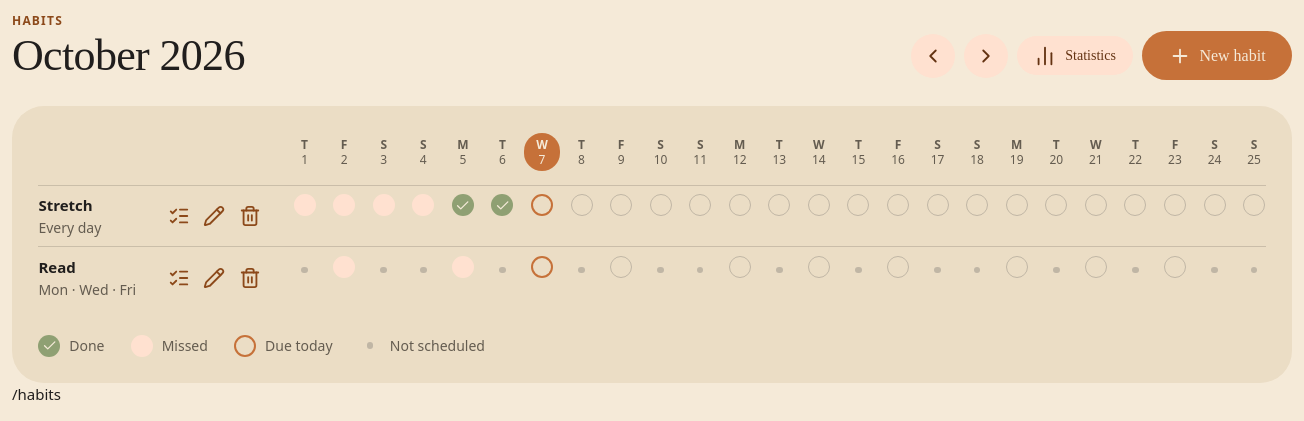
Test: the month › moves between months and keeps the month in the address
Check: the table is shown, box [38,133,1266,308]
Check: the button "This month" is not shown
Step 1. Click the button named "Next month" → click(986, 56), box [964,34,1008,78]
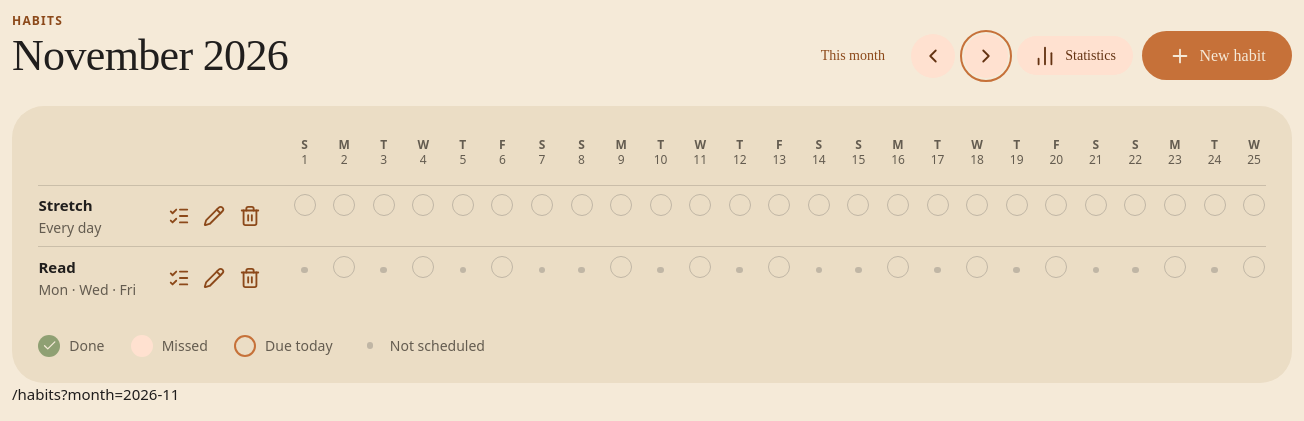
Check: the heading "November 2026" is shown, box [12,31,288,80]
Check: the text with test id "location" reads "/habits?month=2026-11", box [12,384,179,404]
Step 2. Click the button "This month" → click(853, 56), box [803,36,902,76]
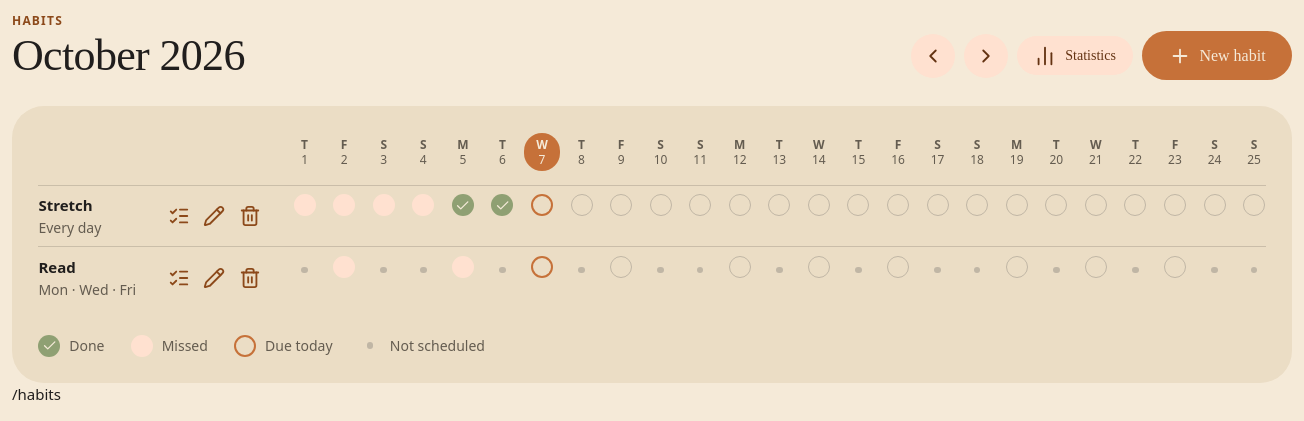
Check: the text with test id "location" reads "/habits", box [12,384,61,404]
Check: the heading "October 2026" is shown, box [12,31,245,80]
Step 3. Click the button named "Previous month" → click(933, 56), box [911,34,955,78]
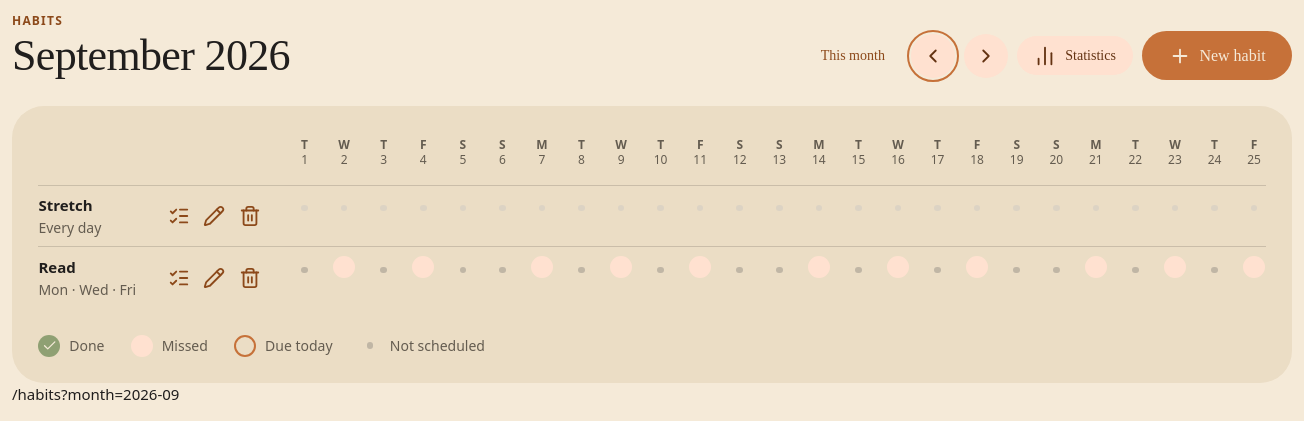
Check: the heading "September 2026" is shown, box [12,31,290,80]
